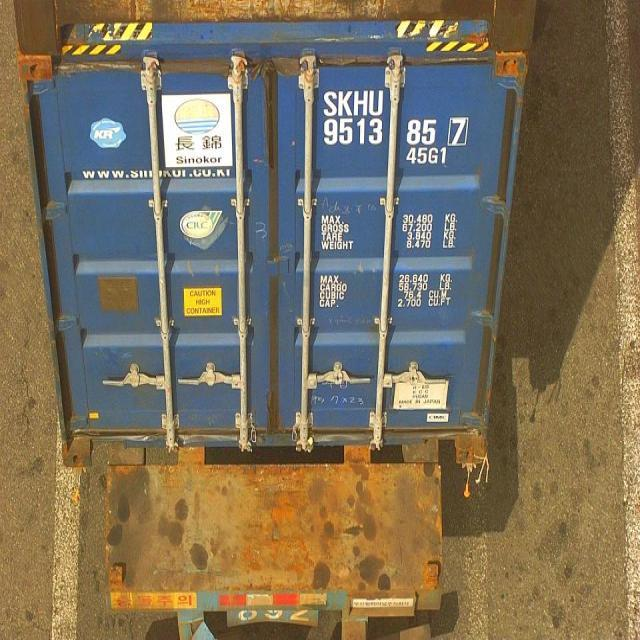ISO: (406, 147, 448, 167)
container_number: (322, 89, 470, 147)
